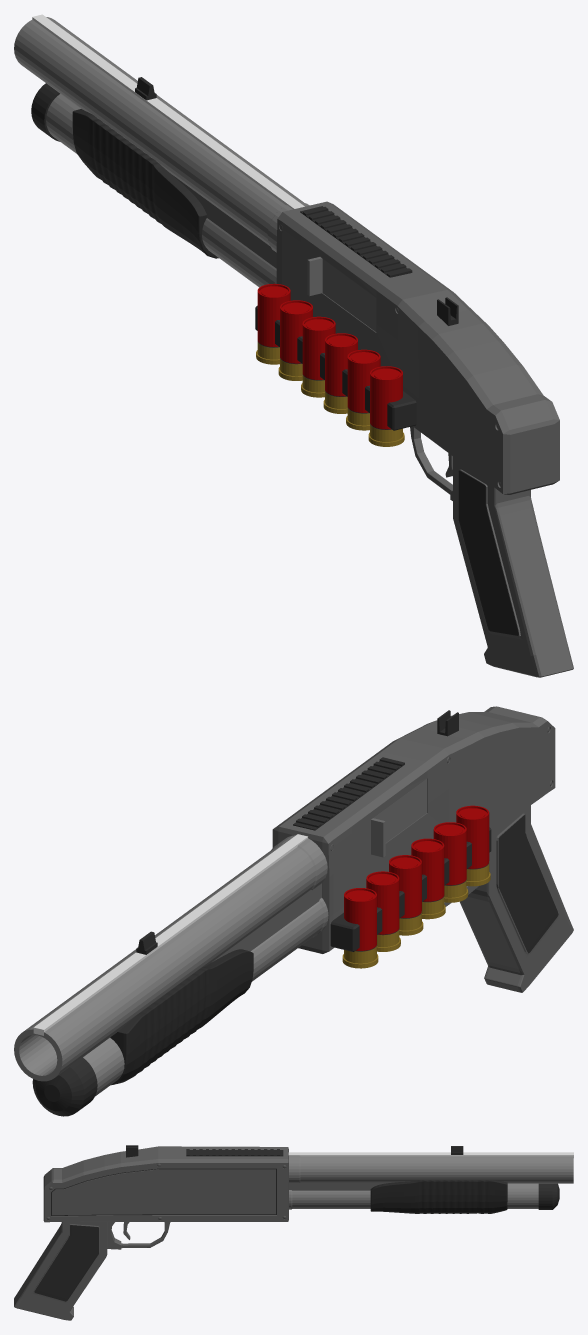
File: sawed-off.fbx
3 views of the same model, one above another, from view 1: azimuth 30°, elevation 25°; view 2: azimuth 150°, elevation 25°; view 3: azimuth 270°, elevation 25° (orthographic). The views are drawn at different scales.
Parts seen in each view (by area): view 1: Scope 2.001; view 2: Scope 2.001; view 3: Scope 2.001.
Part boxes in pixels (x1=…): Scope 2.001: x1=14, y1=14, x2=573, y2=677; Scope 2.001: x1=14, y1=706, x2=573, y2=1116; Scope 2.001: x1=14, y1=1145, x2=573, y2=1320.
Bounding box in the file's own units: 118 × 398 × 1190.
